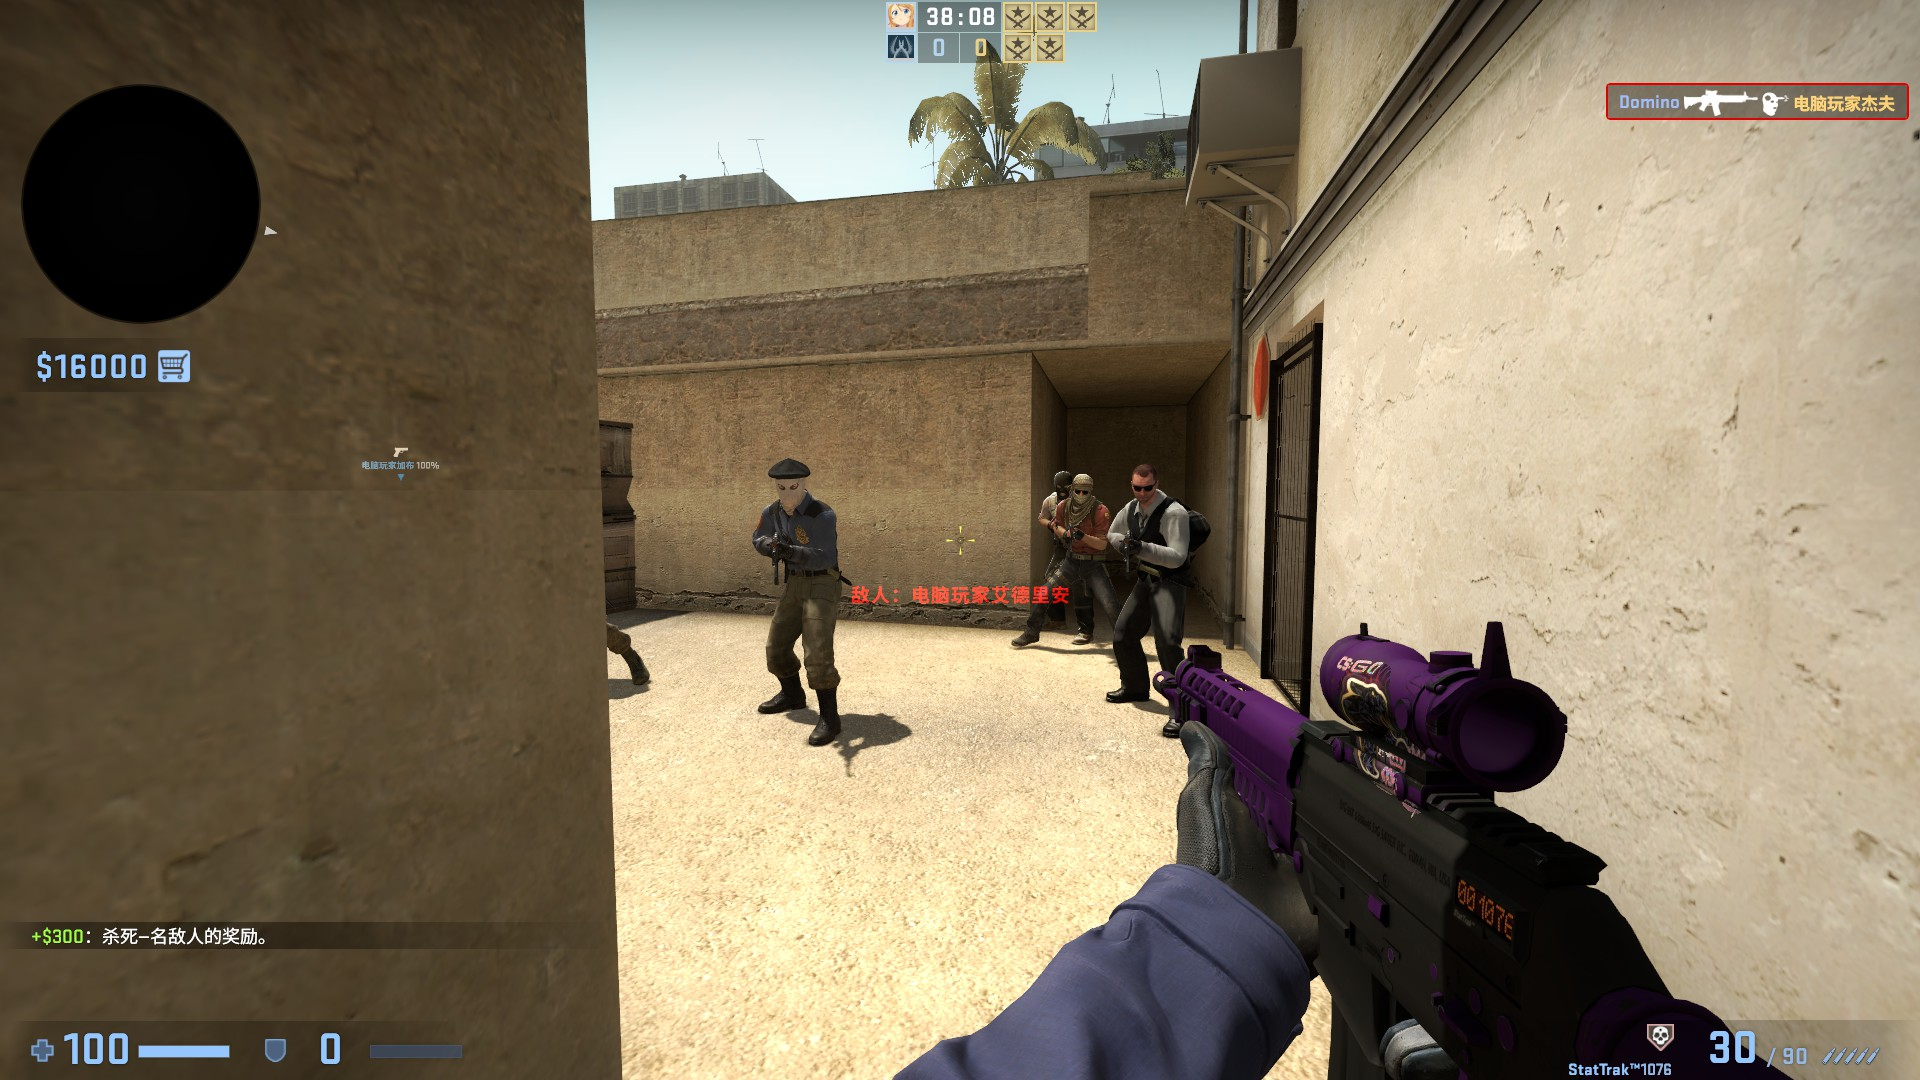head: (765, 456, 808, 509), (1129, 464, 1159, 504), (1070, 474, 1092, 507), (1051, 471, 1072, 497)
